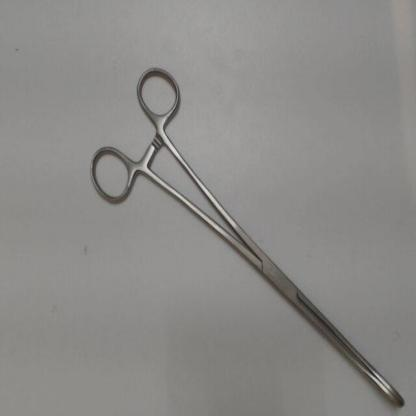Sponge Forceps: (82, 53, 410, 415)
